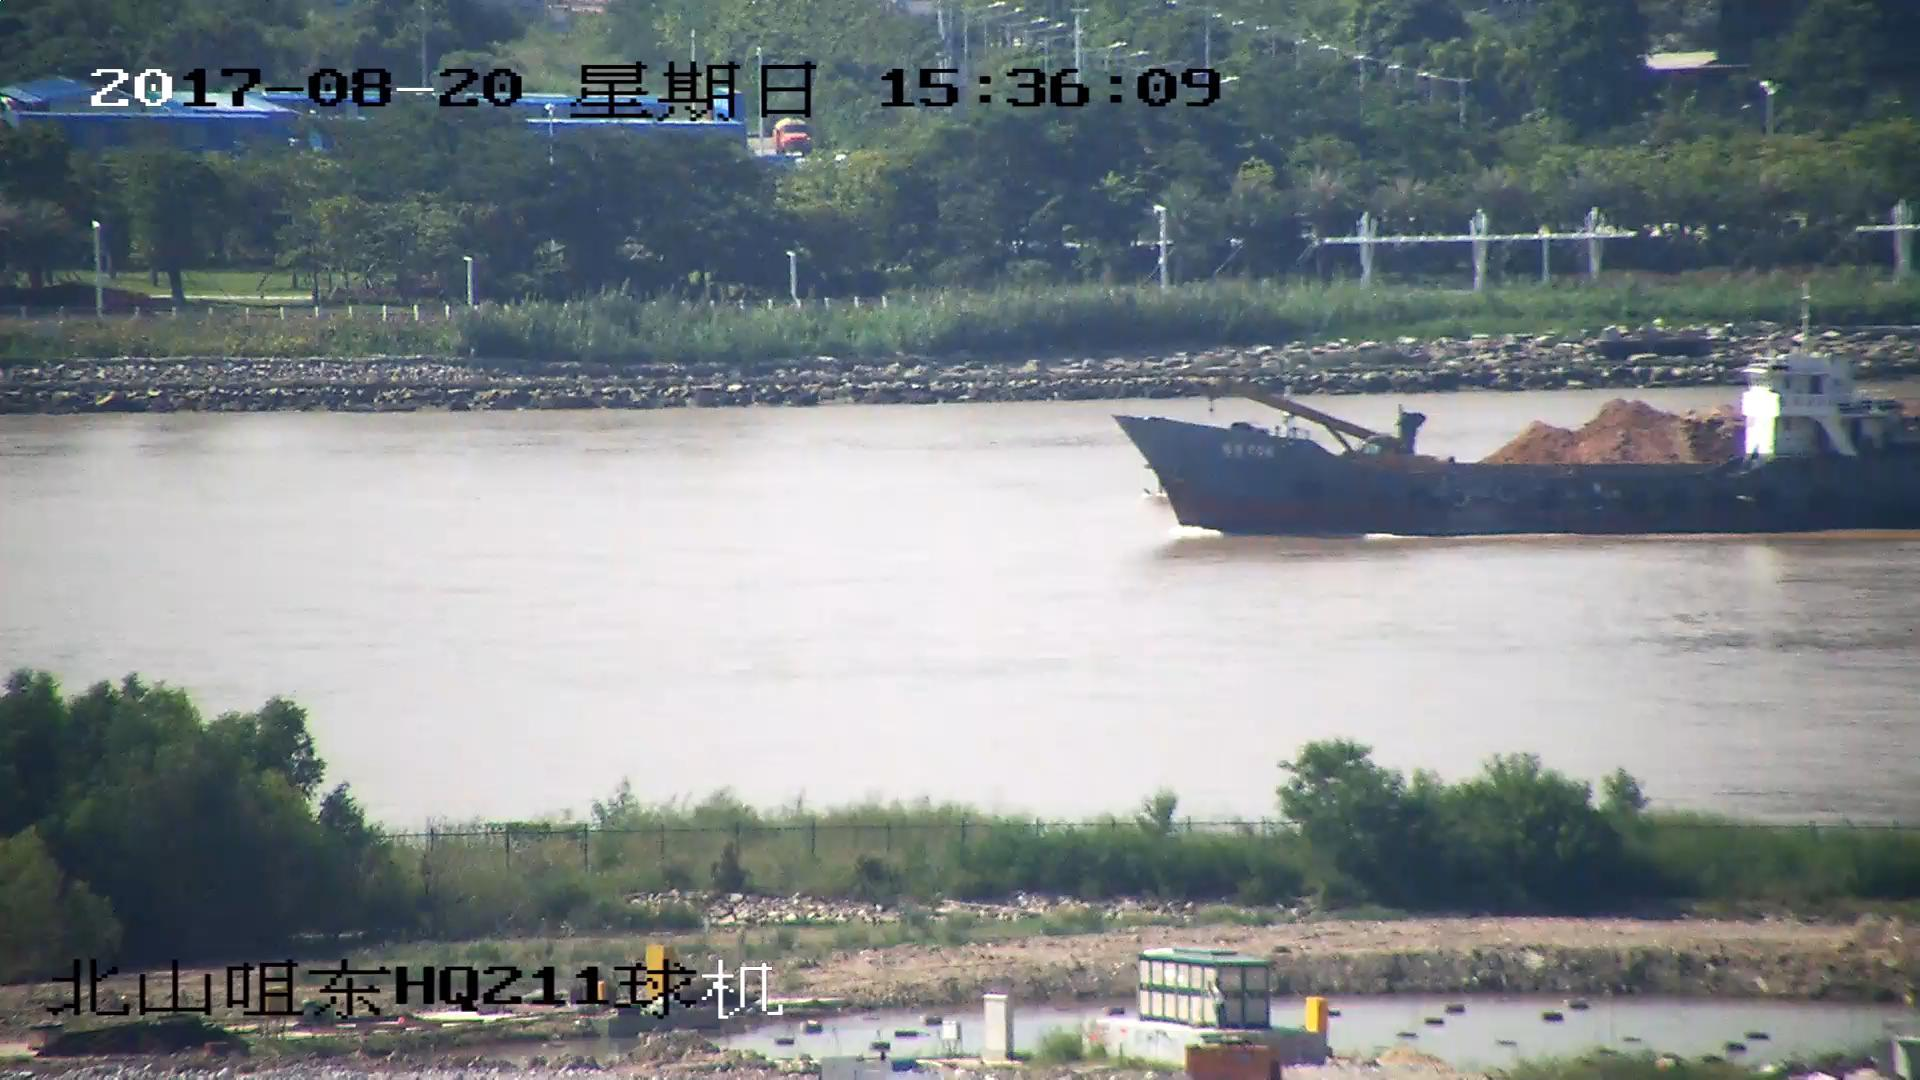Ship: (1122, 291, 1920, 537), (1151, 396, 1803, 500)
